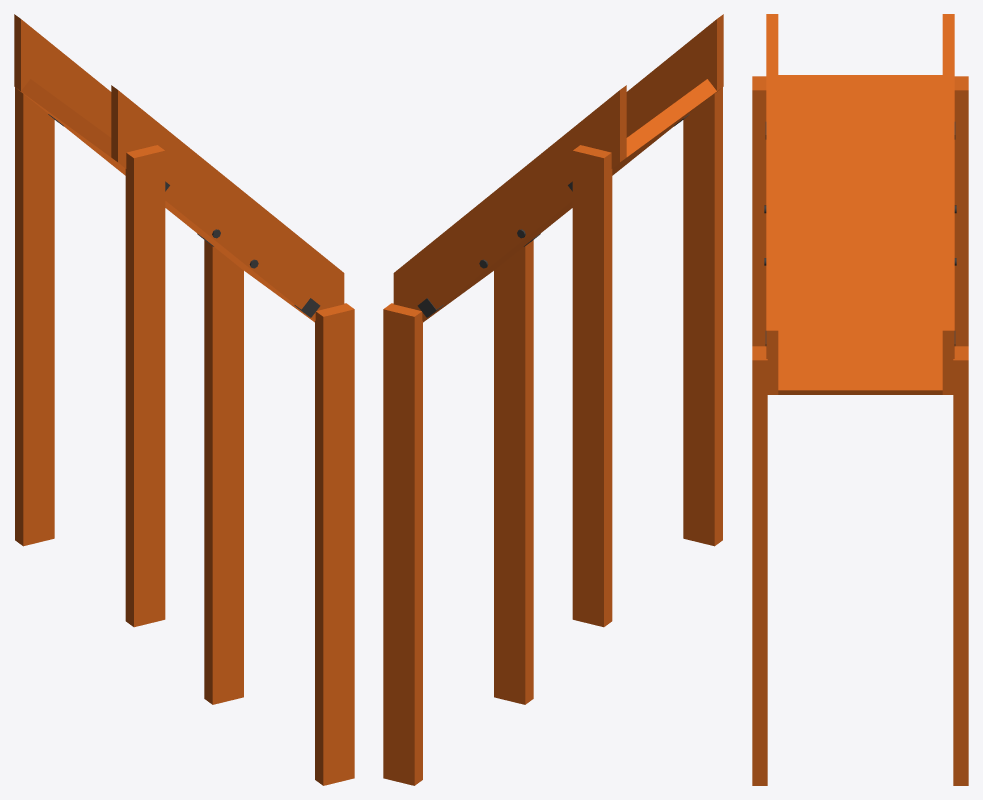
File: itemshooter sloope.fbx
The picture shows the model from 3 angles, left to right: view 1: azimuth 30°, elevation 25°; view 2: azimuth 150°, elevation 25°; view 3: azimuth 270°, elevation 25°; orthographic projection. The views are drawn at different scales.
Parts seen in each view (by area): view 1: stand2, stand1, body; view 2: stand2, stand1, body; view 3: body, stand1, stand2.
Boxes of the visible parts, x1,y1,x2,y2 form: stand2: (15, 87, 165, 627); stand1: (204, 240, 354, 785); body: (14, 14, 344, 322); stand2: (572, 87, 722, 627); stand1: (383, 240, 533, 785); body: (393, 14, 723, 322); body: (764, 14, 956, 394); stand1: (752, 346, 968, 785); stand2: (752, 76, 968, 346).
Size of the model in its own units: 105 by 315 by 92.04.
